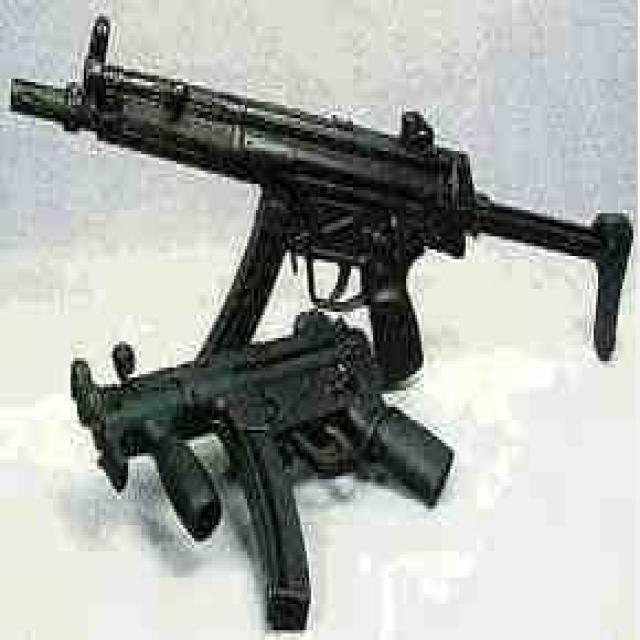Rifle: (11, 10, 636, 372)
